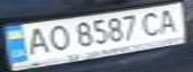5: (90, 16, 112, 46)
7: (118, 11, 142, 40)
8: (106, 15, 127, 44), (72, 19, 93, 48)
A: (18, 25, 54, 57), (154, 6, 187, 35)
C: (136, 8, 169, 37)
O: (42, 23, 72, 53)
